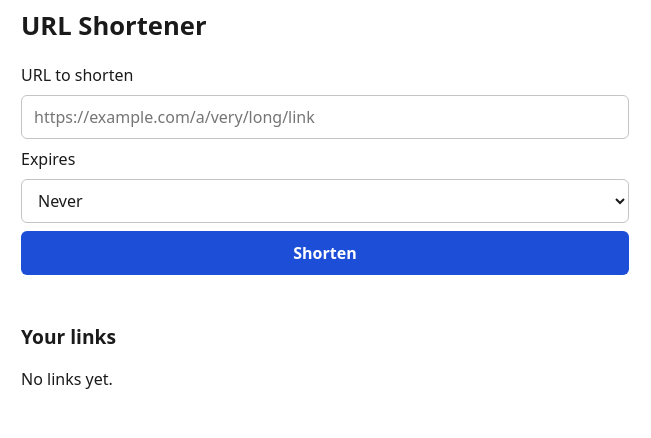
Test: App › empty input shows a message and sends no request
Click the button "Shorten": (325, 253) [21,231,629,275]
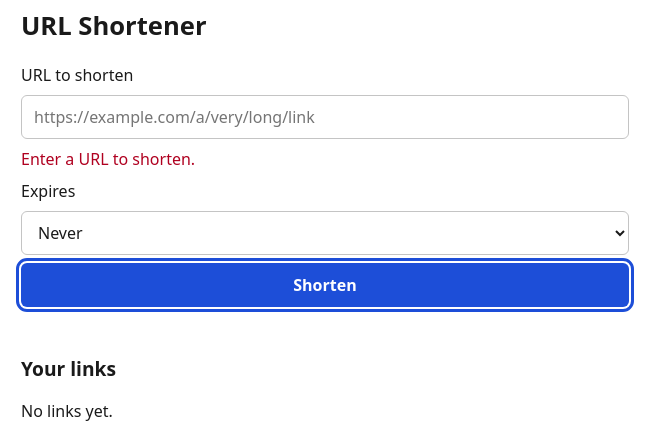
Expected: the message "Enter a URL to shorten." is shown, [21,148,195,170]
